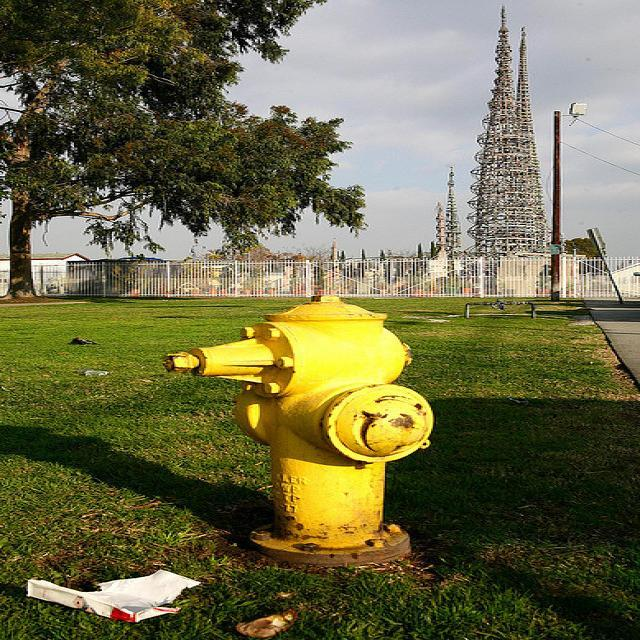fire_hydrant: (162, 292, 434, 568)
